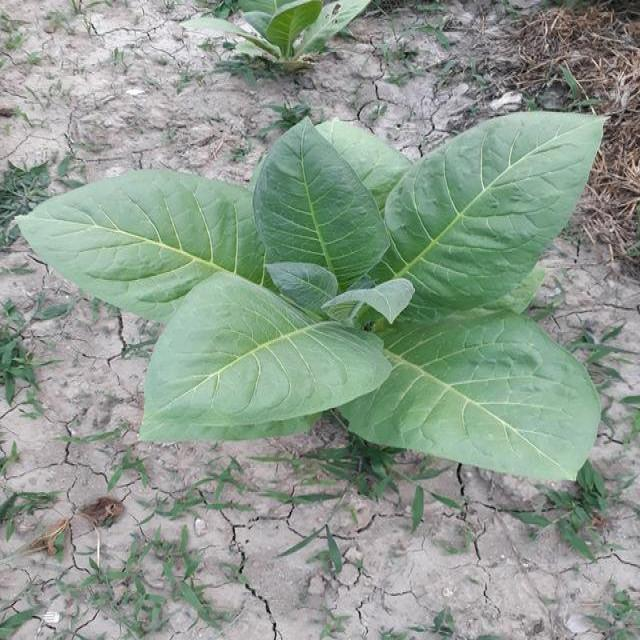crop: (23, 120, 640, 484), (235, 0, 380, 76)
